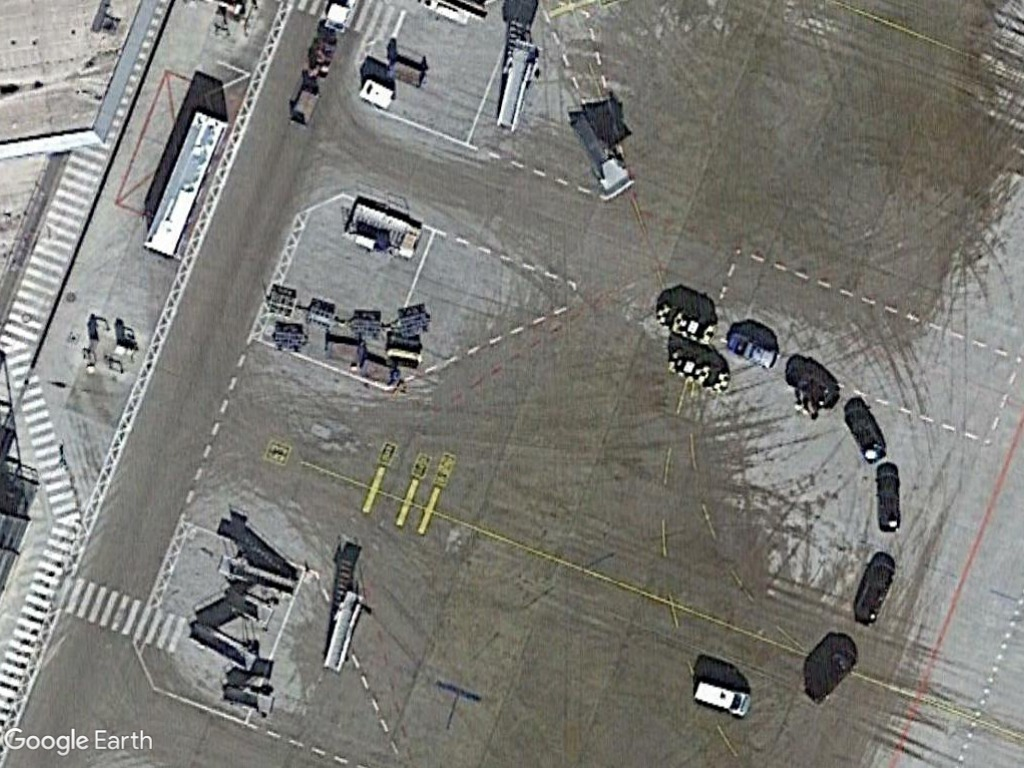car: (688, 676, 753, 720)
longvehicle: (136, 106, 233, 267)
stairtruck: (483, 29, 547, 141), (317, 583, 374, 678)
